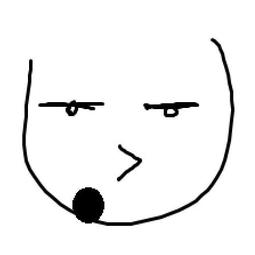pointy_nose: (104, 138, 149, 183), (71, 186, 103, 226)
small_eye: (37, 97, 105, 120), (143, 97, 200, 119)
